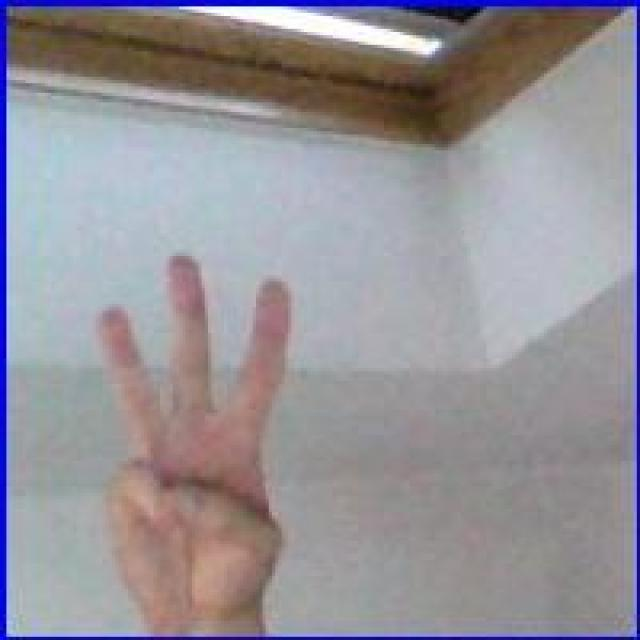W: (83, 251, 301, 619)
